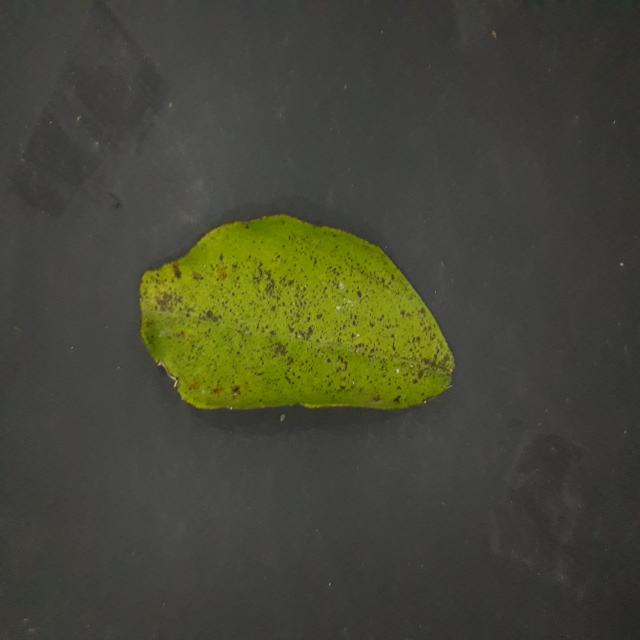greasy_spot: (140, 215, 455, 409)
